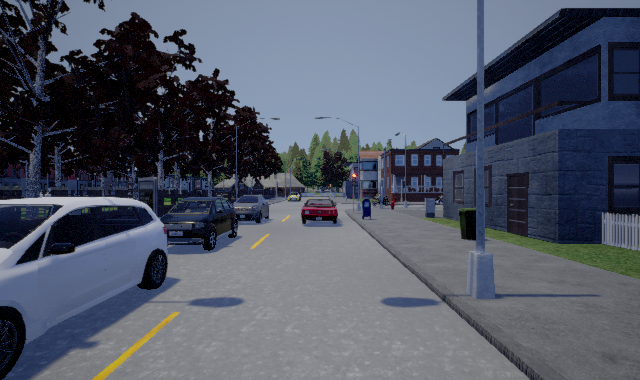traffic_light: (352, 171, 356, 188)
vehicle: (1, 190, 167, 380), (160, 196, 240, 252), (231, 192, 271, 225), (301, 199, 338, 224)
